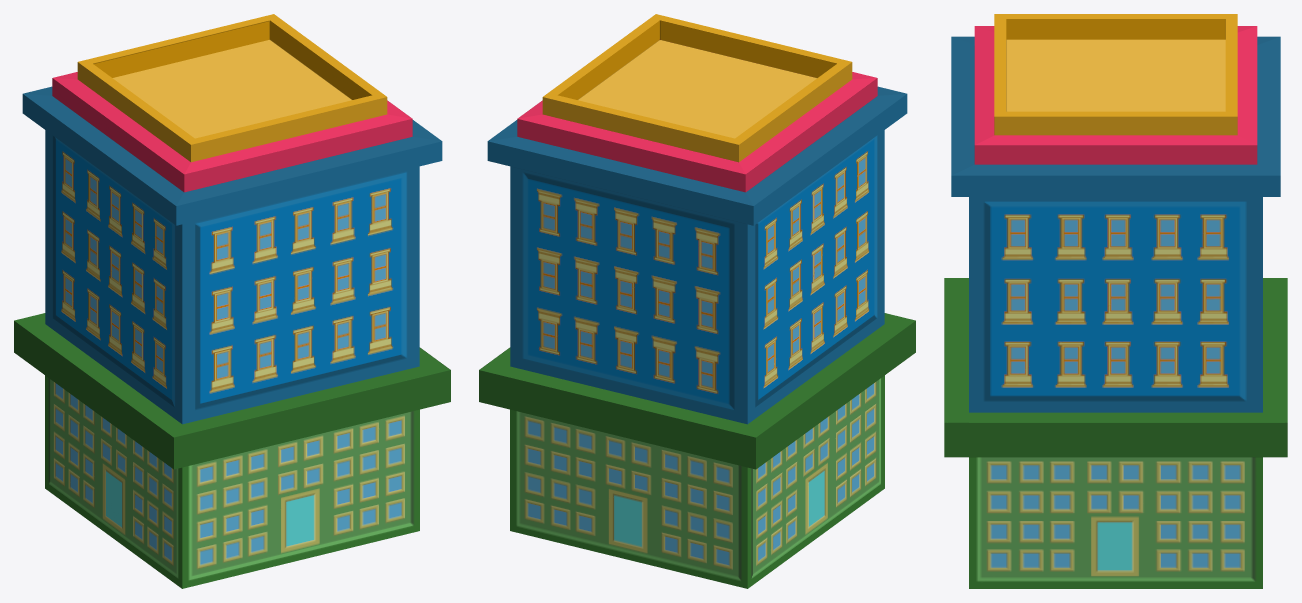
Rendered from building set 2_02.fbx.
The picture shows the model from 3 angles, left to right: view 1: azimuth 30°, elevation 25°; view 2: azimuth 150°, elevation 25°; view 3: azimuth 270°, elevation 25°; orthographic projection. The views are drawn at different scales.
Parts seen in each view (by area): view 1: polySurface1; view 2: polySurface1; view 3: polySurface1.
Part boxes in pixels (box(x1,y1,x2,y2)): polySurface1: box(14, 14, 450, 588); polySurface1: box(479, 14, 915, 588); polySurface1: box(944, 14, 1287, 588).
Bounding box in the file's own units: 5.01 × 7.43 × 5.01.
